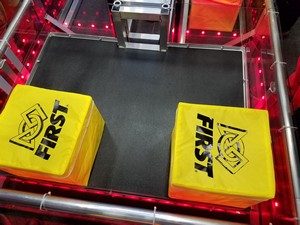cube: (165, 101, 275, 208)
